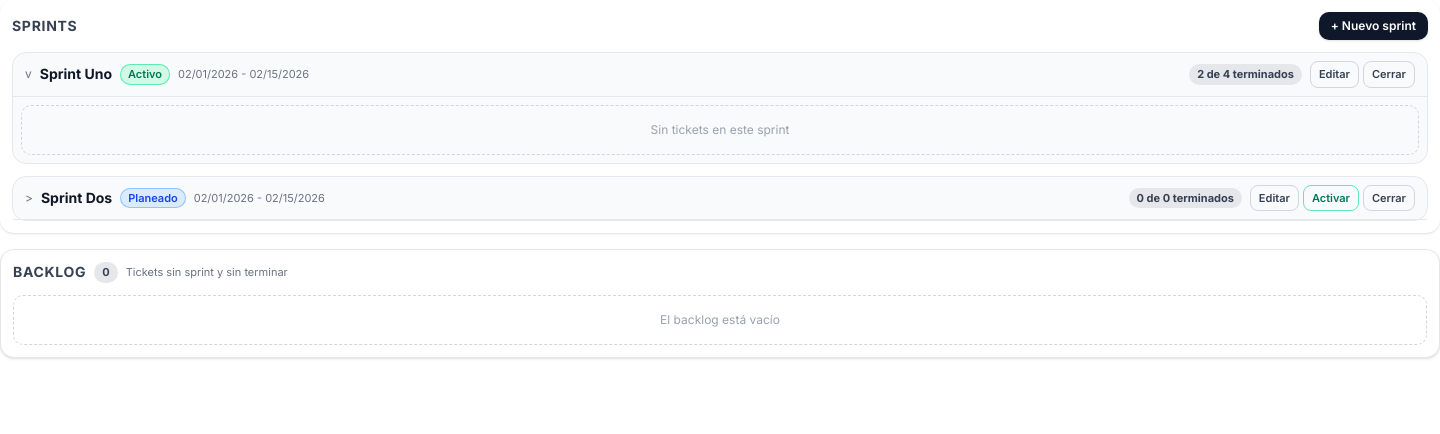
Scenario: TicketsBacklog › carga de buckets › carga el sprint planeado solo cuando se despliega
Expected: the text "Sprint Dos" is shown, [41, 188, 112, 208]
Click the button "Sprint Dos" at point(77, 197), box [25, 188, 1121, 208]
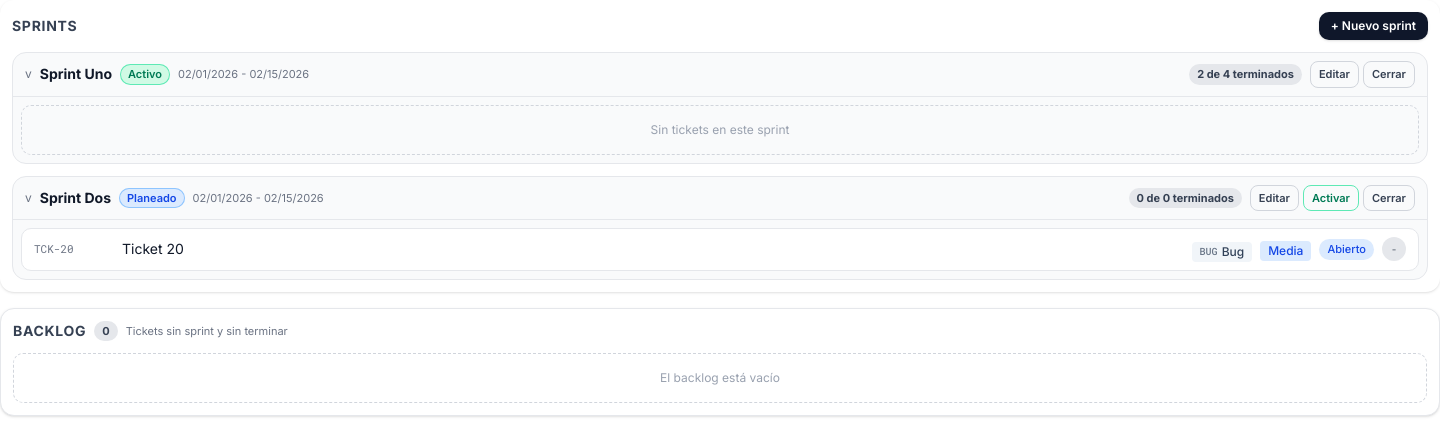
Now the text "TCK-20" is shown, box [34, 241, 74, 256]
